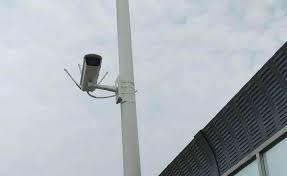tutu: (75, 50, 106, 97)
